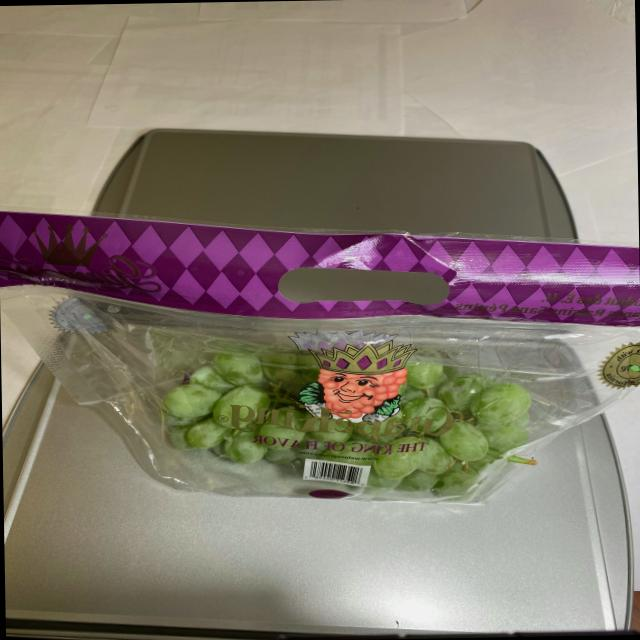grapes: (138, 324, 540, 501)
